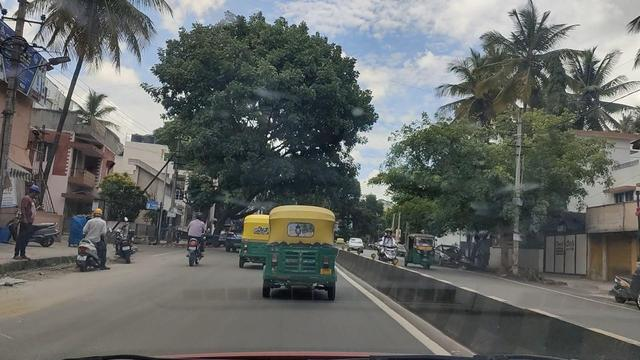LMV: (266, 214, 333, 302), (71, 206, 111, 273), (170, 213, 211, 273), (238, 213, 270, 263)
